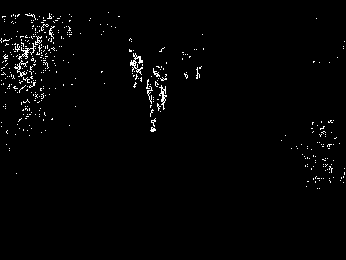person: (145, 65, 173, 136)
